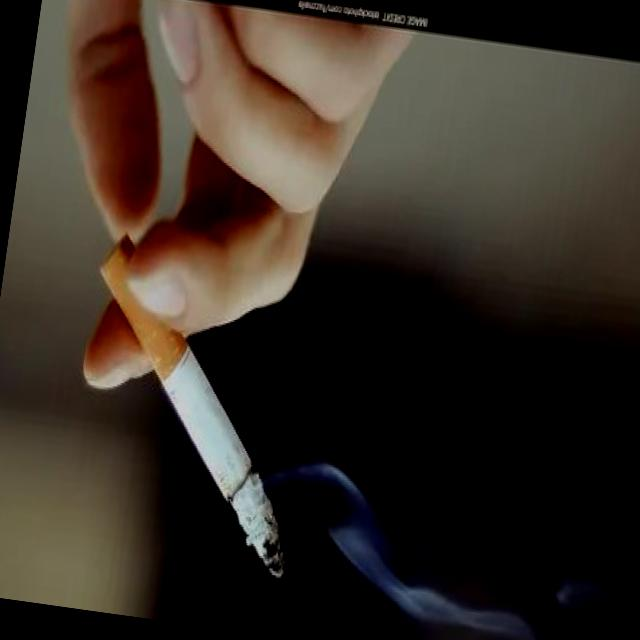smoke: (59, 227, 334, 582)
